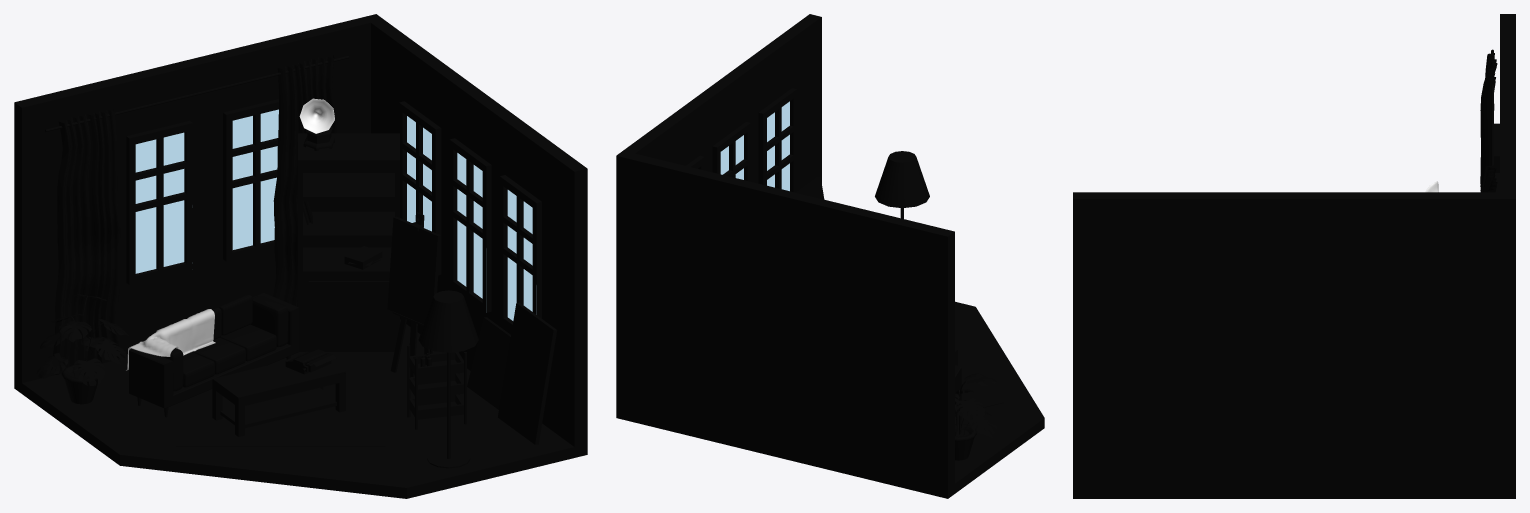
File: HappyPlace.fbx
3 views of the same model, side by side, from view 1: azimuth 30°, elevation 25°; view 2: azimuth 150°, elevation 25°; view 3: azimuth 270°, elevation 25° (orthographic). The views are drawn at different scales.
Parts seen in each view (by area): view 1: pCube1, Cortina, Librero, Ventana5, Sofa_grande, Alfombra, Ventana6, Ventana8, Mesa, Ventana9, Canva1, Ventana7 (+10 smaller); view 2: pCube1, Ventana9, pCylinder3, Planta, Ventana8, Alfombra; view 3: pCube1, Cortina.
Boxes of the visible parts, x1=… form: pCube1: x1=14, y1=14, x2=587, y2=498; Cortina: x1=45, y1=55, x2=349, y2=374; Librero: x1=298, y1=133, x2=399, y2=351; Ventana5: x1=126, y1=120, x2=192, y2=284; Sofa_grande: x1=129, y1=293, x2=299, y2=417; Alfombra: x1=176, y1=374, x2=385, y2=446; Ventana6: x1=223, y1=99, x2=278, y2=261; Ventana8: x1=449, y1=138, x2=491, y2=312; Mesa: x1=212, y1=361, x2=345, y2=436; Ventana9: x1=499, y1=175, x2=541, y2=331; Canva1: x1=498, y1=302, x2=557, y2=444; Ventana7: x1=399, y1=101, x2=441, y2=275; pCube1: x1=616, y1=14, x2=1044, y2=498; Ventana9: x1=758, y1=88, x2=796, y2=192; pCylinder3: x1=875, y1=151, x2=929, y2=218; Planta: x1=955, y1=373, x2=998, y2=460; Ventana8: x1=712, y1=121, x2=750, y2=181; Alfombra: x1=957, y1=372, x2=1003, y2=414; pCube1: x1=1073, y1=14, x2=1515, y2=498; Cortina: x1=1480, y1=49, x2=1497, y2=192.
Bounding box in the file's own units: 6.23 × 4.53 × 6.06.
